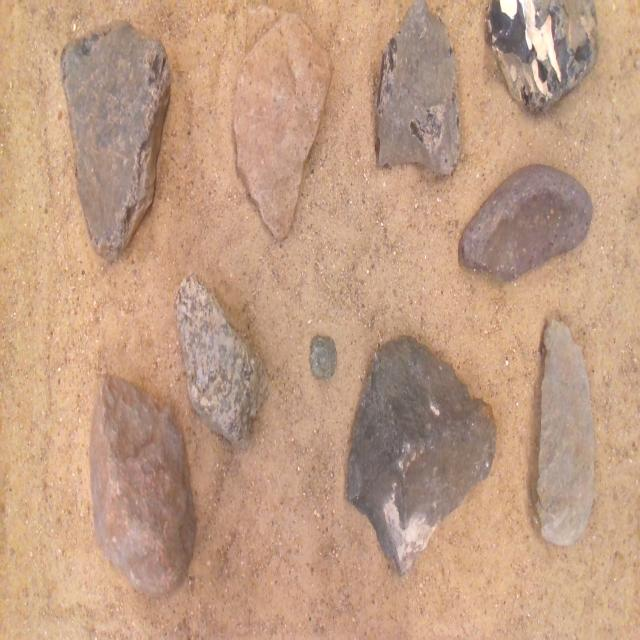rock: (348, 337, 496, 575), (61, 23, 169, 260), (90, 376, 196, 596), (233, 12, 331, 239), (175, 274, 269, 446), (459, 165, 592, 280), (376, 0, 460, 174), (536, 319, 595, 545), (486, 0, 597, 110), (310, 335, 336, 377)
